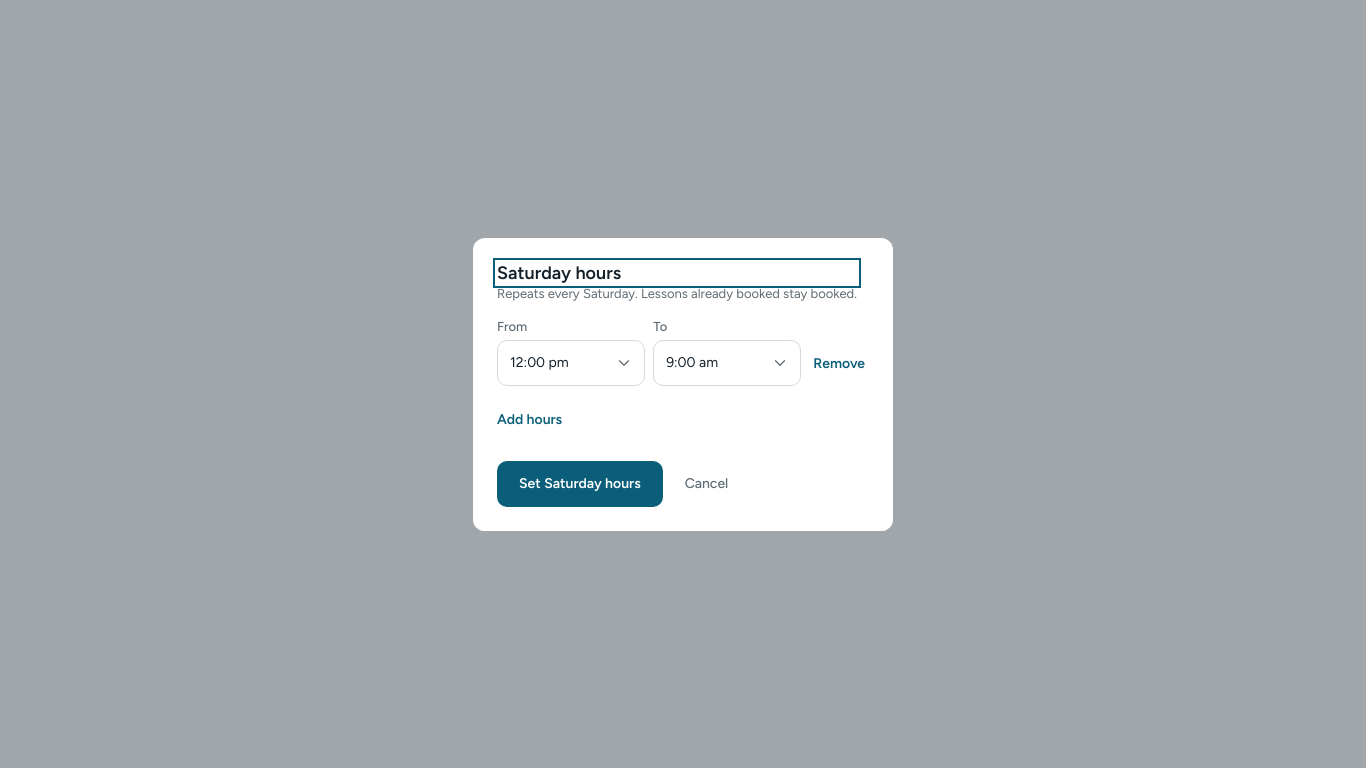
it: EditDayHoursDialog › clears a range’s message once it changes
This screenshot has width=1366, height=768.
Click the button "Set Saturday hours".
click(580, 484)  # box [497,460,663,506]
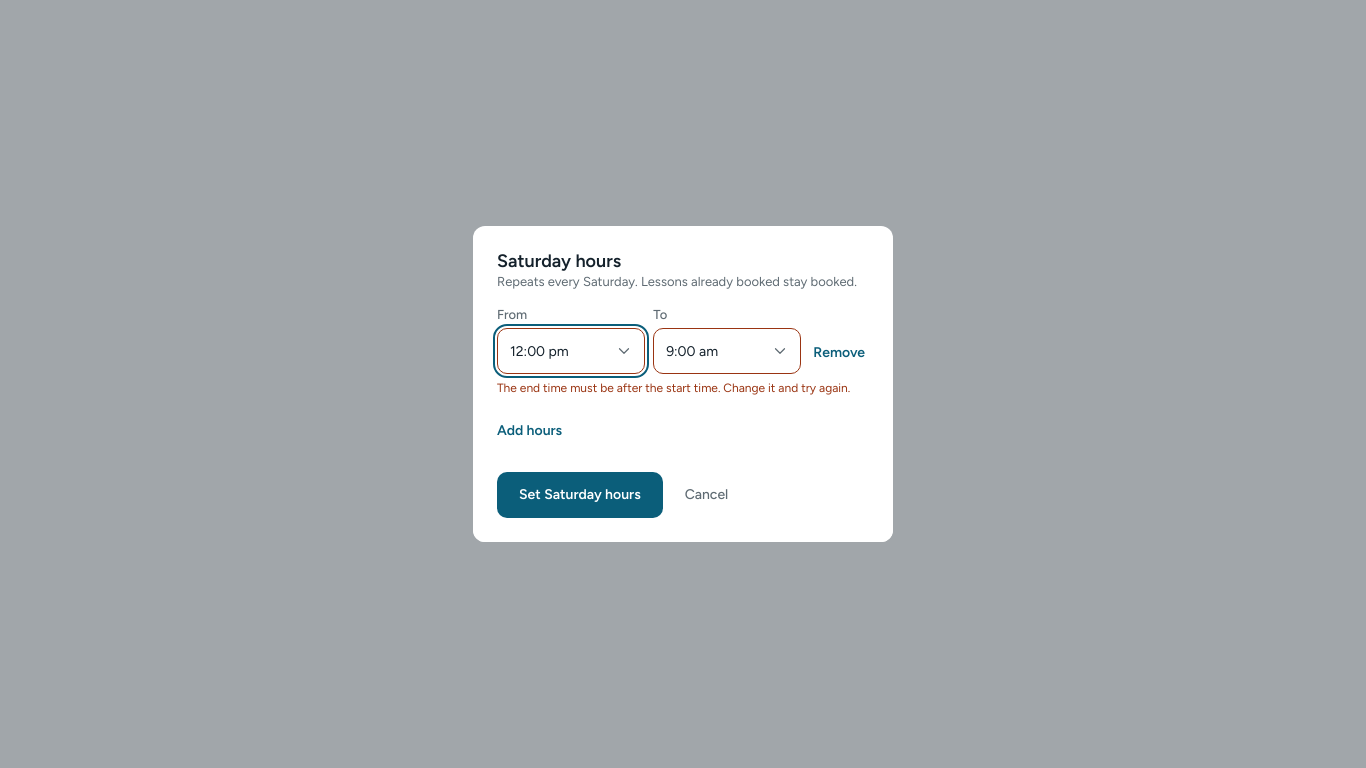
Now the text "The end time must be after the start time. Change it and try again." is shown, box [497,380,869,397]
Select "1:00 pm" in the dropdown labelled "To" at (727, 351), box [653,328,801,374]
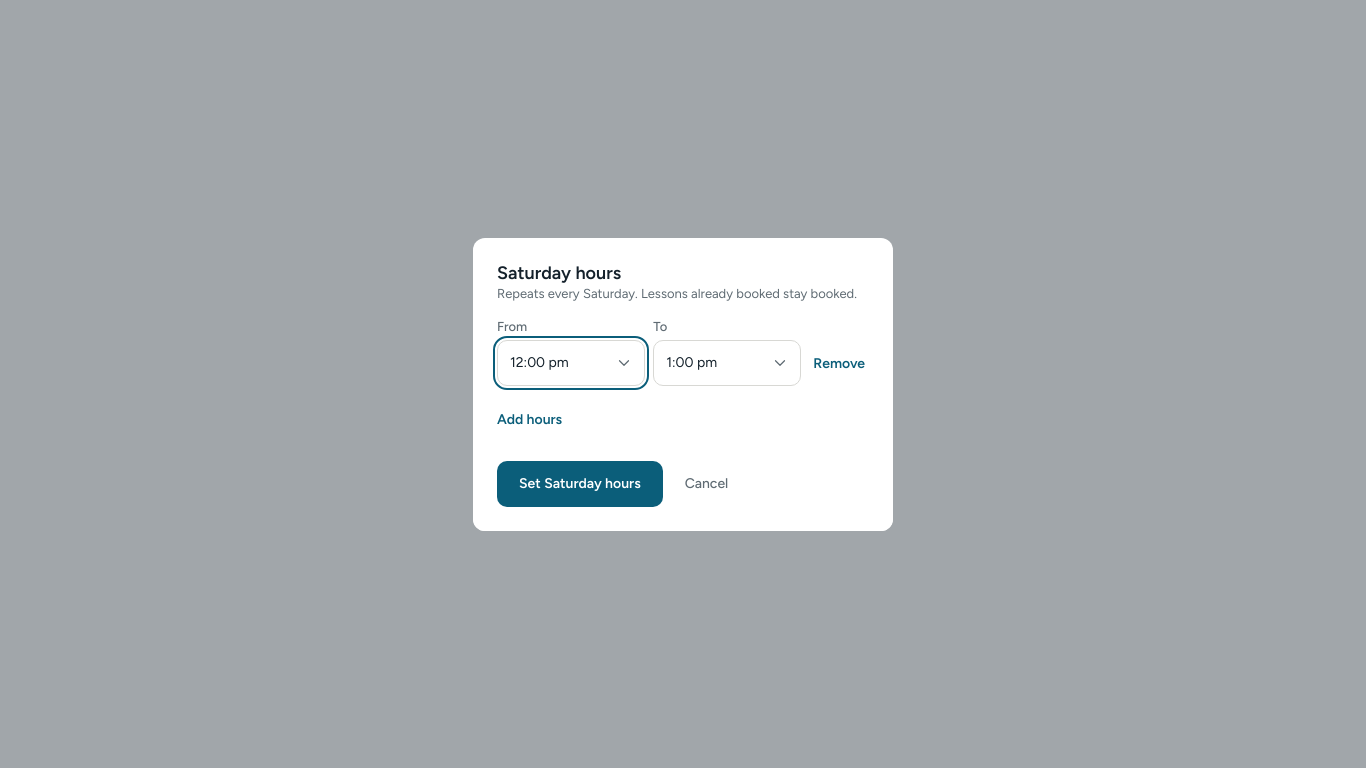
Now the text "The end time must be after the start time. Change it and try again." is gone
